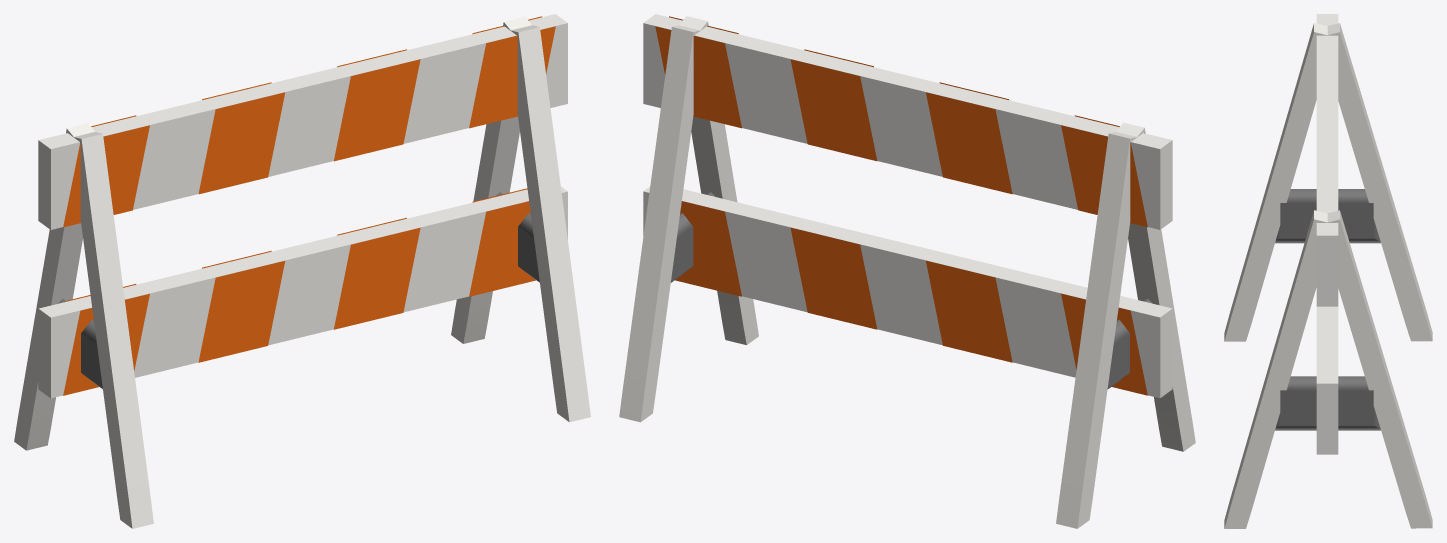
File: bm-blockade.gltf
The picture shows the model from 3 angles, left to right: view 1: azimuth 30°, elevation 25°; view 2: azimuth 150°, elevation 25°; view 3: azimuth 270°, elevation 25°; orthographic projection. The views are drawn at different scales.
Parts seen in each view (by area): view 1: board (×2), leg.anterior (×2), board.bottom, board.top, leg.posterior (×2), stripes-front (×2), connector (×2); view 2: board (×2), leg.posterior (×2), board.top, board.bottom, leg.anterior (×2), stripes.back (×2), connector (×2); view 3: leg.posterior (×2), leg.anterior (×2), board (×2), connector (×2).
Boxes of the visible parts, x1=… form: board (×2): x1=38, y1=14, x2=567, y2=398; leg.anterior (×2): x1=74, y1=25, x2=590, y2=528; board.bottom: x1=198, y1=188, x2=535, y2=362; board.top: x1=198, y1=16, x2=555, y2=194; leg.posterior (×2): x1=14, y1=16, x2=531, y2=450; stripes-front (×2): x1=63, y1=125, x2=149, y2=395; connector (×2): x1=58, y1=192, x2=539, y2=389; board (×2): x1=643, y1=14, x2=1172, y2=398; leg.posterior (×2): x1=619, y1=25, x2=1136, y2=528; board.top: x1=655, y1=16, x2=1012, y2=194; board.bottom: x1=675, y1=201, x2=1012, y2=362; leg.anterior (×2): x1=679, y1=16, x2=1195, y2=451; stripes.back (×2): x1=1061, y1=125, x2=1147, y2=395; connector (×2): x1=670, y1=192, x2=1152, y2=389; leg.posterior (×2): x1=1327, y1=23, x2=1432, y2=528; leg.anterior (×2): x1=1224, y1=23, x2=1328, y2=528; board (×2): x1=1316, y1=14, x2=1338, y2=454; connector (×2): x1=1275, y1=189, x2=1380, y2=430.
Bounding box in the file's own units: 4.82 × 3.14 × 1.91.
